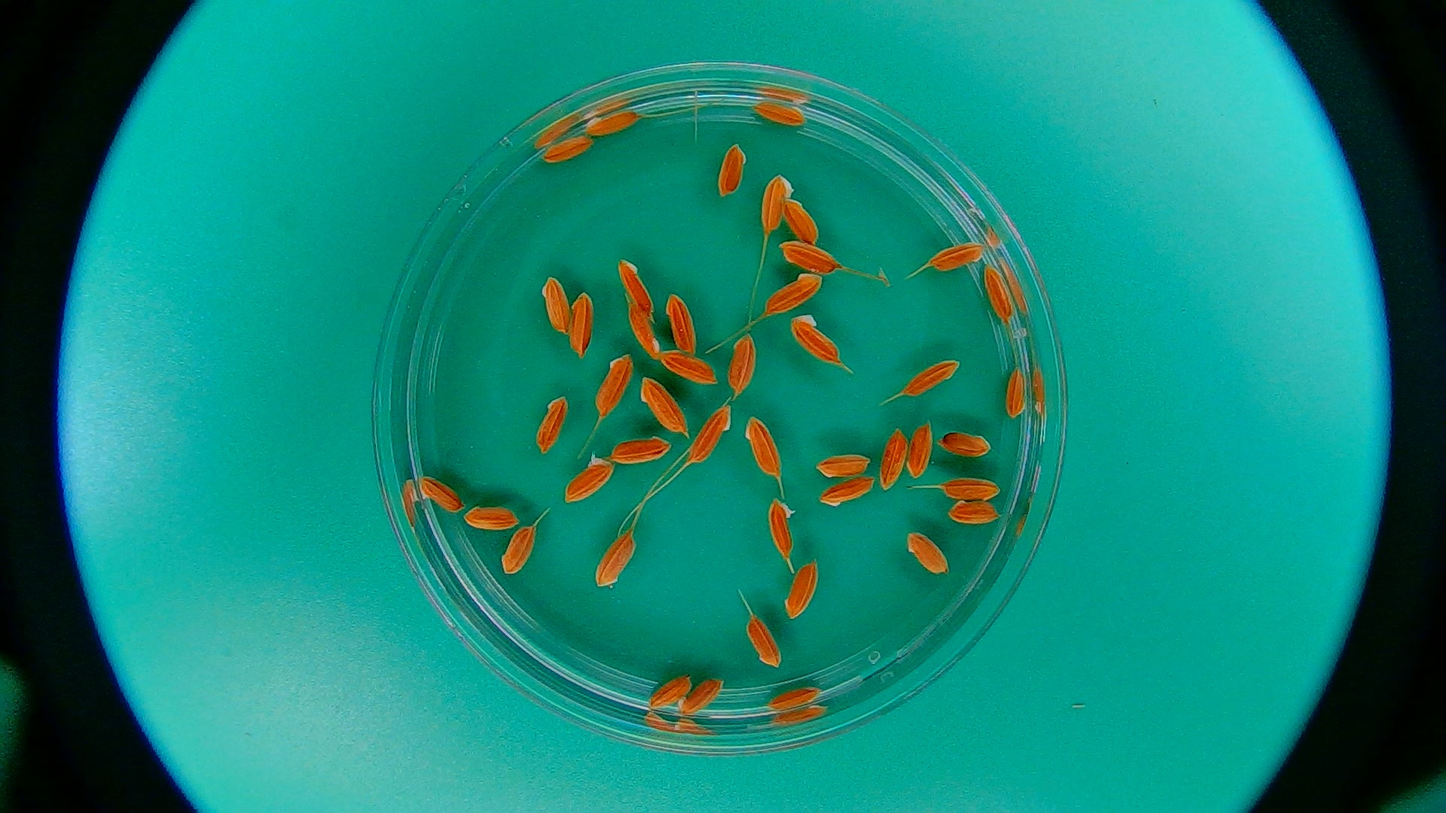no: (685, 401, 737, 465), (789, 315, 844, 368), (592, 352, 635, 419), (638, 377, 686, 435), (899, 358, 962, 397), (763, 274, 824, 314), (593, 530, 636, 586), (744, 416, 782, 477), (925, 237, 986, 274), (780, 196, 825, 245), (498, 526, 541, 577), (761, 170, 795, 231), (618, 257, 655, 313), (663, 294, 700, 350), (744, 614, 782, 668), (779, 240, 838, 274), (726, 333, 758, 395), (905, 528, 948, 574), (538, 275, 572, 333), (784, 563, 816, 623), (983, 263, 1014, 324), (535, 394, 567, 453), (611, 436, 673, 465), (768, 500, 797, 560), (660, 353, 716, 384), (628, 306, 660, 359), (819, 477, 875, 507), (419, 473, 462, 512), (717, 142, 748, 196), (753, 97, 805, 129), (569, 292, 595, 356), (879, 430, 905, 492), (679, 680, 724, 715), (906, 422, 934, 478), (941, 477, 1001, 501), (938, 431, 991, 458), (648, 675, 690, 709), (768, 686, 823, 711), (542, 138, 594, 164), (586, 111, 640, 136), (463, 506, 517, 531), (816, 453, 871, 477), (949, 499, 998, 525), (1004, 368, 1028, 419)
yes: (566, 455, 612, 501)
